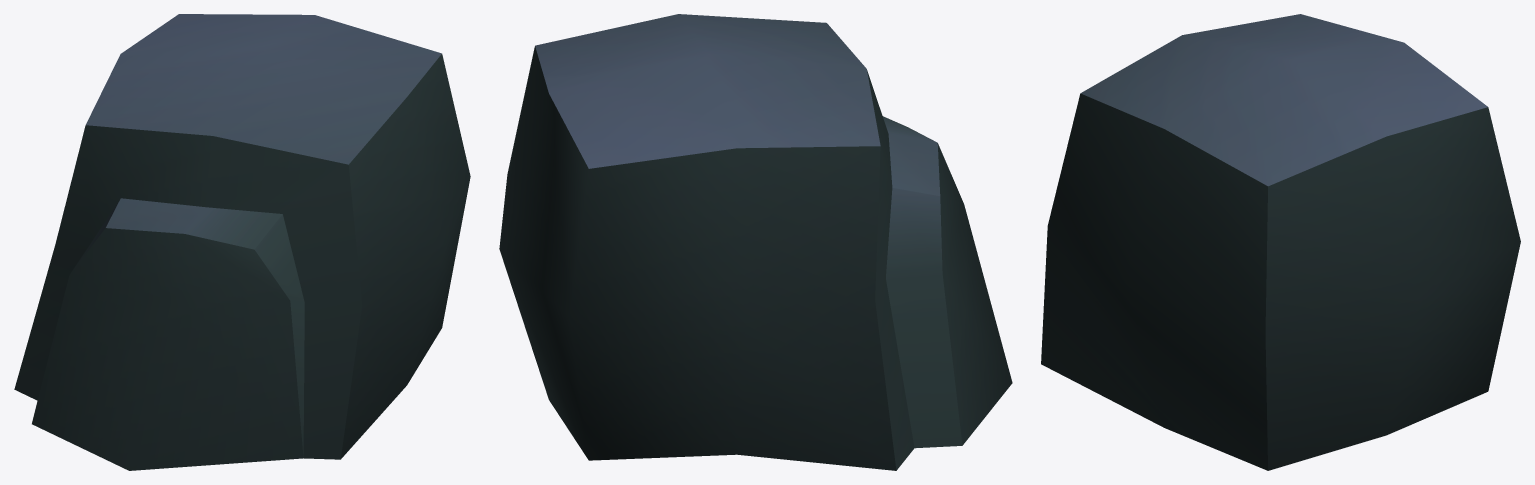
Rendered from undead_mine_stone_04.fbx.
The picture shows the model from 3 angles, left to right: view 1: azimuth 30°, elevation 25°; view 2: azimuth 150°, elevation 25°; view 3: azimuth 270°, elevation 25°; orthographic projection. The views are drawn at different scales.
Visible parts, largest first — view 1: undead_mine_stone_04; view 2: undead_mine_stone_04; view 3: undead_mine_stone_04.
Part boxes in pixels (x1,y1,x2,y2): undead_mine_stone_04: [14, 14, 470, 470]; undead_mine_stone_04: [499, 14, 1012, 470]; undead_mine_stone_04: [1041, 14, 1520, 470].
Bounding box in the file's own units: 2.71 × 1.88 × 2.51.
